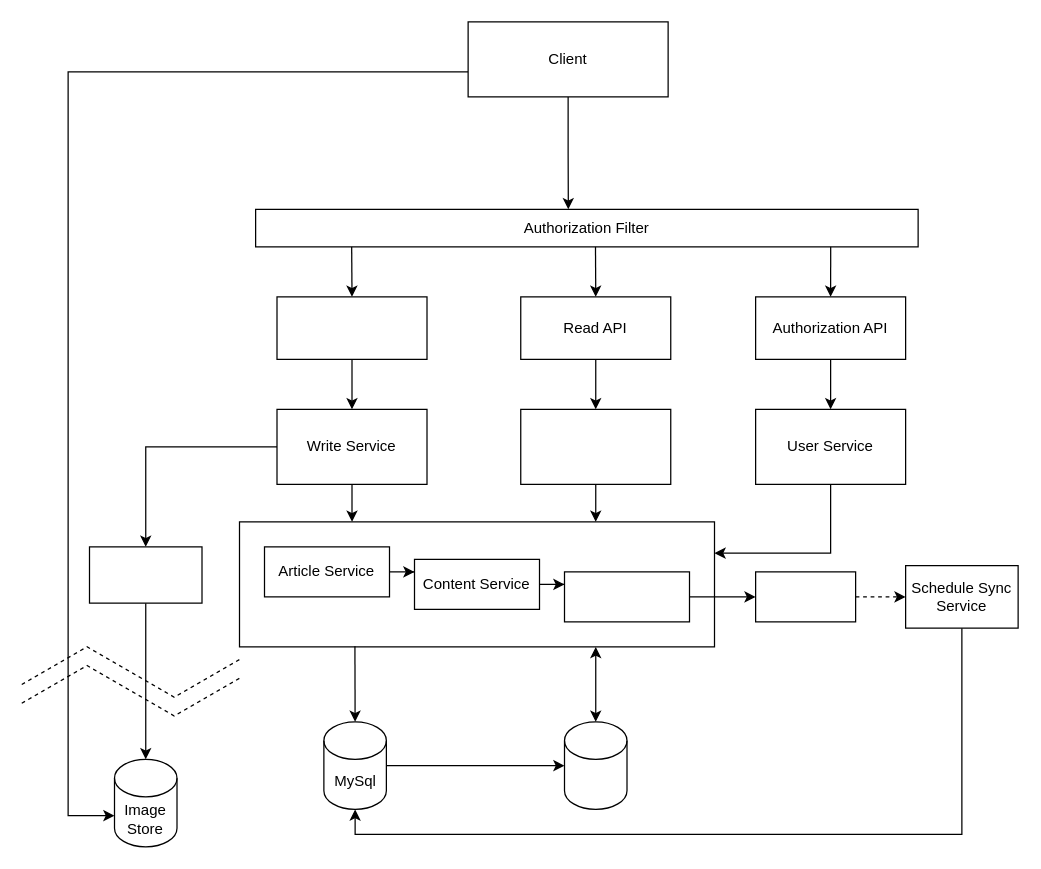
This 1041x869 diagram has some shape labels left out. Each missing label, with the centre of its shape:
Imgur Service: pixel 145 574
Like Service: pixel 626 596
Read Service: pixel 595 446
Redis Cache: pixel 595 765
Redis Queue: pixel 805 596
Write API: pixel 351 327
